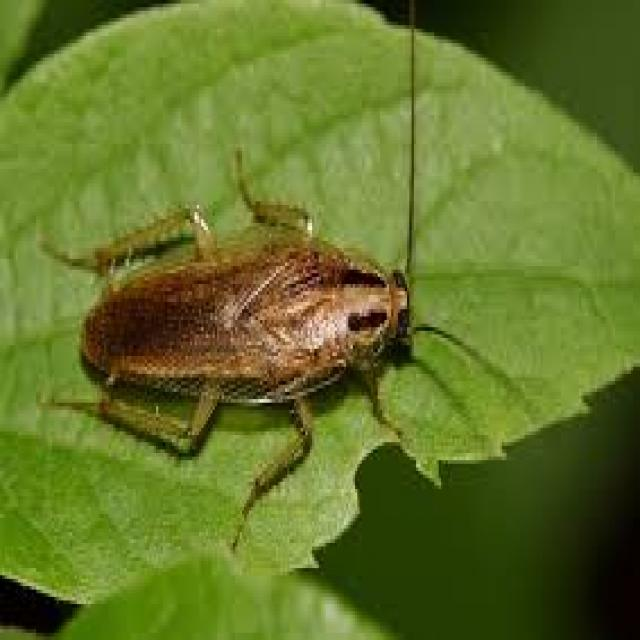Cockroach: (44, 53, 534, 571)
